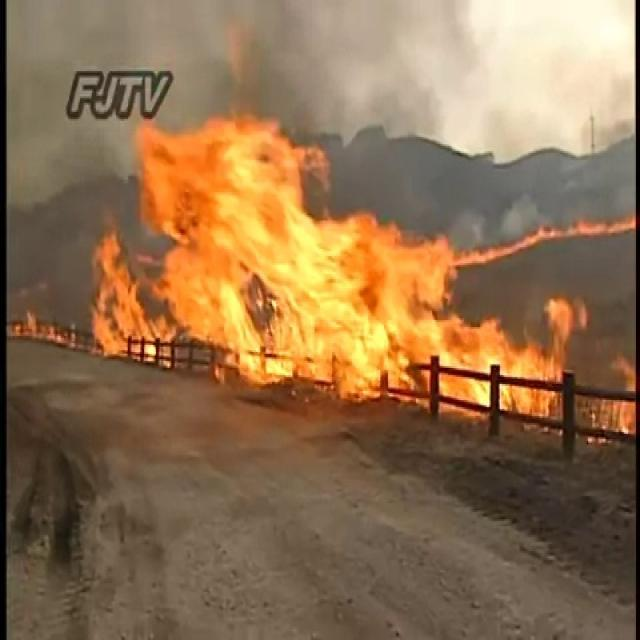Fire: (185, 247, 442, 359), (142, 138, 300, 230)
